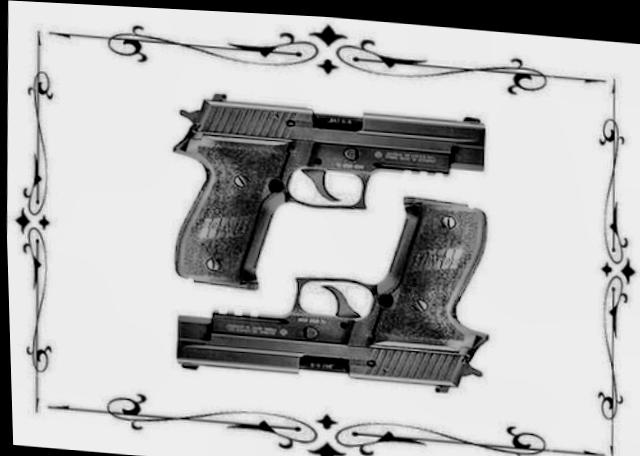pistol: (165, 86, 489, 303), (168, 172, 489, 391)
